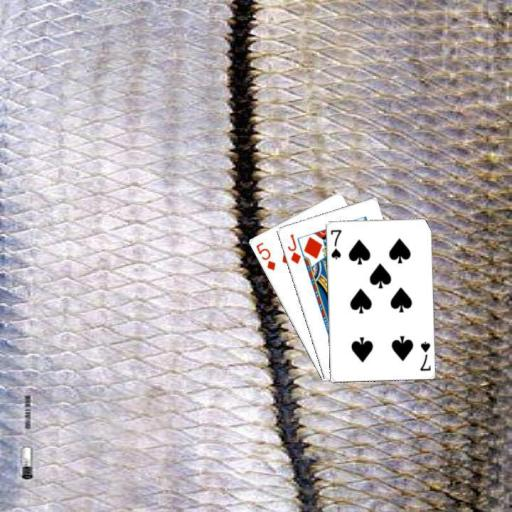5D: (253, 239, 277, 272)
7S: (327, 226, 343, 260), (417, 338, 432, 372)
JD: (285, 231, 303, 265)
